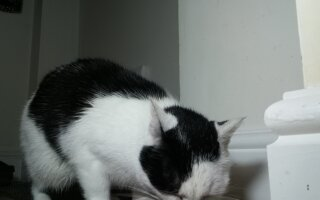bad: (20, 54, 242, 195)
